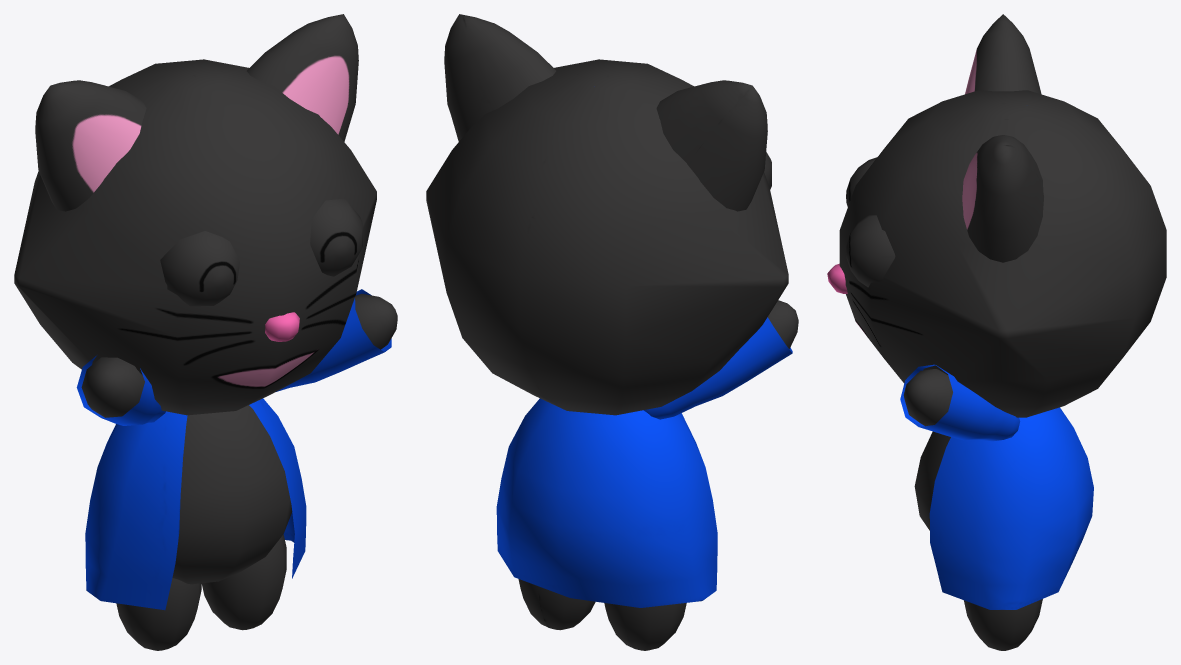
Rendered from Cat_Happy_Model.fbx.
The picture shows the model from 3 angles, left to right: view 1: azimuth 30°, elevation 25°; view 2: azimuth 150°, elevation 25°; view 3: azimuth 270°, elevation 25°; orthographic projection. The views are drawn at different scales.
Visible parts, largest first — view 1: Body1; view 2: Body1; view 3: Body1.
Part boxes in pixels (x1,y1,x2,y2): Body1: [14, 14, 397, 650]; Body1: [426, 14, 798, 650]; Body1: [827, 14, 1166, 650].
Size of the model in its own units: 65.56 by 103 by 58.08.
